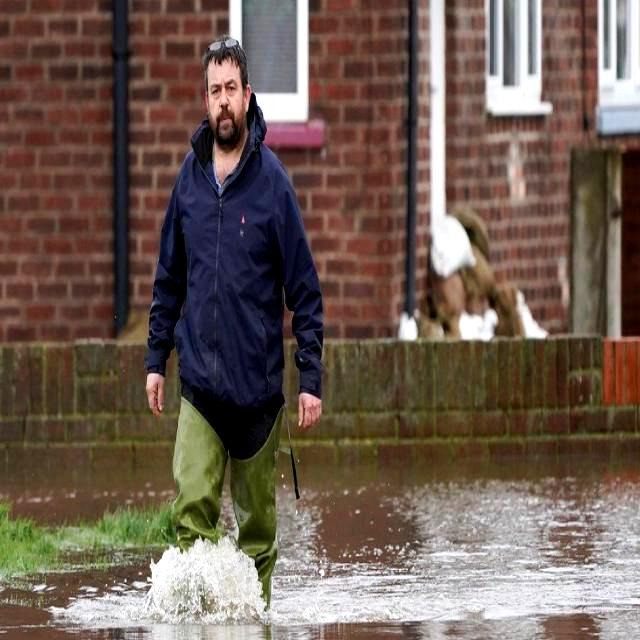civilian: (134, 28, 331, 622)
